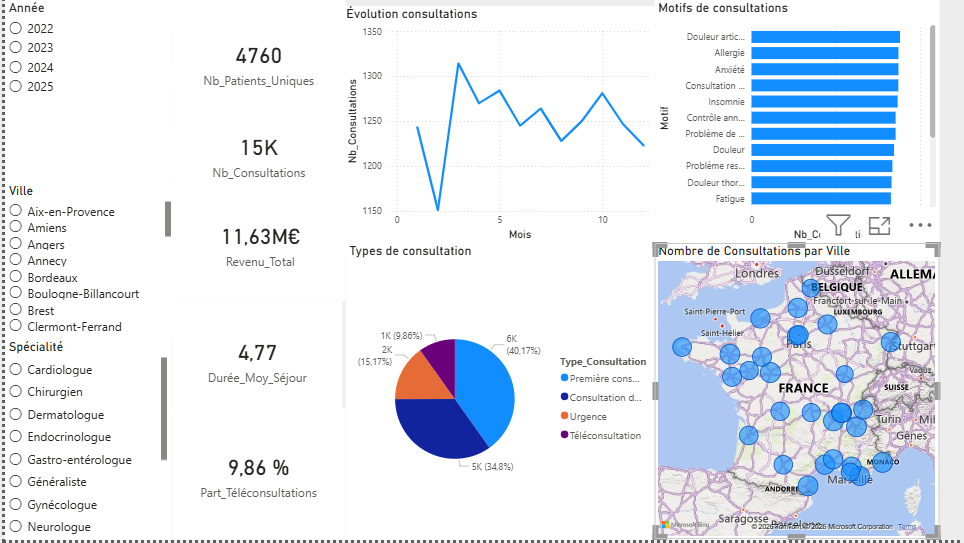

The page's visual inventory and layout, read from the dashboard file:
{"tool":"powerbi","page":{"name":"Vue d'ensemble","canvas":[1280,720],"ordinal":1},"visuals":[{"type":"card","fields":{"Values":["Mesures.Nb_Patients_Uniques"]},"box":[222,0,232,164],"z":0},{"type":"card","fields":{"Values":["Mesures.Nb_Consultations"]},"box":[222,126,232,158],"z":1000},{"type":"card","fields":{"Values":["Mesures.Revenu_Total"]},"box":[226,244,228,158],"z":2000},{"type":"card","fields":{"Values":["Mesures.Durée_Moy_Séjour"]},"box":[222,402,228,152],"z":3000},{"type":"lineChart","title":"Évolution consultations","fields":{"Y":["Mesures.Nb_Consultations"],"Category":["Calendrier.Mois"]},"box":[450,8,416,316],"z":4000},{"type":"clusteredBarChart","title":"Motifs de consultations","fields":{"Y":["Mesures.Nb_Consultations"],"Category":["Consultations.Motif"]},"box":[866,0,380,324],"z":5000},{"type":"pieChart","title":"Types de consultation","fields":{"Y":["Mesures.Nb_Consultations"],"Category":["Consultations.Type_Consultation"]},"box":[454,324,412,396],"z":6000},{"type":"listSlicer","fields":{"Values":["Calendrier.Année"]},"box":[0,0,222,244],"z":7000},{"type":"listSlicer","fields":{"Values":["Patients.Ville"]},"box":[0,244,226,208],"z":8000},{"type":"listSlicer","fields":{"Values":["Médecins.Spécialité"]},"box":[0,451.1,221.5,269.4],"z":9000},{"type":"map","title":"Nombre de Consultations par Ville","fields":{"Size":["Mesures.Nb_Consultations"],"Category":["Patients.Ville"]},"box":[866.2,323.3,379.2,395.2],"z":10000},{"type":"card","fields":{"Values":["Mesures.Part_Téléconsultations"]},"box":[221.5,544.9,231.5,175.6],"z":10001}]}

Visuals, with their boxes in screenshot pixels (x1, y1, x2, y2), scaled from the page's 1280x720 canvas onto the 964x543 screenshot:
card - Mesures.Nb_Patients_Uniques: bbox=(167, 0, 342, 124)
card - Mesures.Nb_Consultations: bbox=(167, 95, 342, 214)
card - Mesures.Revenu_Total: bbox=(170, 184, 342, 303)
card - Mesures.Durée_Moy_Séjour: bbox=(167, 303, 339, 418)
"Évolution consultations" lineChart: bbox=(339, 6, 652, 244)
"Motifs de consultations" clusteredBarChart: bbox=(652, 0, 938, 244)
"Types de consultation" pieChart: bbox=(342, 244, 652, 542)
listSlicer - Calendrier.Année: bbox=(0, 0, 167, 184)
listSlicer - Patients.Ville: bbox=(0, 184, 170, 341)
listSlicer - Médecins.Spécialité: bbox=(0, 340, 167, 542)
"Nombre de Consultations par Ville" map: bbox=(652, 244, 938, 542)
card - Mesures.Part_Téléconsultations: bbox=(167, 411, 341, 542)
